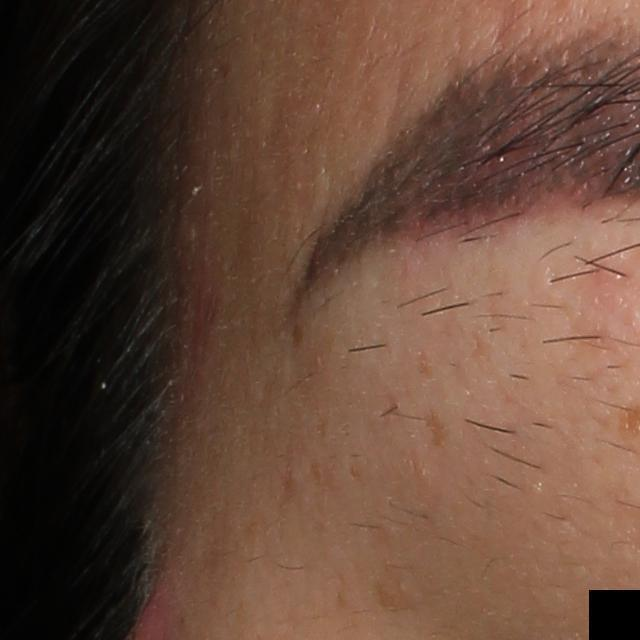melasma: (403, 388, 457, 452), (375, 576, 410, 614)
